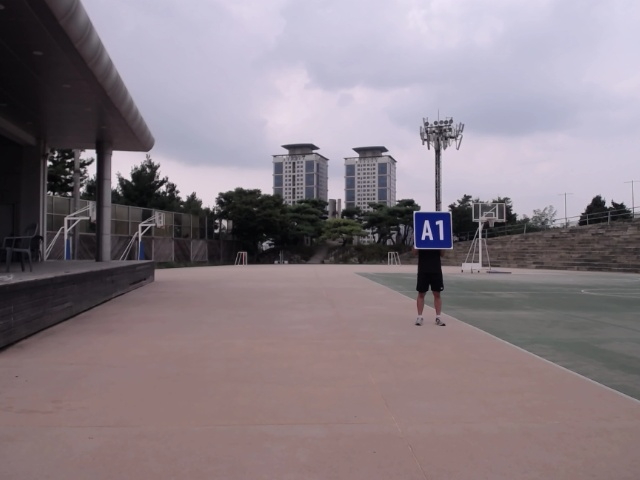delivery_a1: (415, 212, 452, 249)
